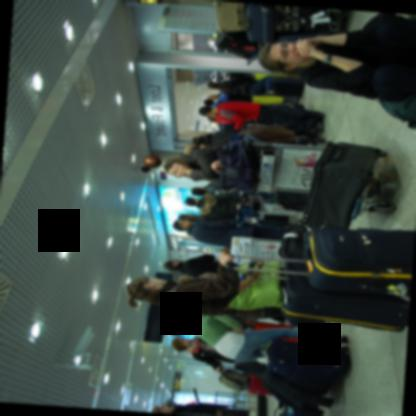backpack: (378, 94, 416, 129), (279, 310, 332, 330), (219, 367, 250, 391)
handbag: (223, 260, 283, 311), (199, 124, 297, 148), (218, 367, 252, 391), (273, 402, 310, 416)
suitcase: (282, 251, 403, 332), (299, 224, 410, 300), (297, 139, 388, 229), (243, 2, 345, 41), (261, 367, 340, 416), (267, 341, 353, 386), (216, 30, 261, 60), (214, 1, 246, 32), (270, 76, 305, 93), (246, 373, 273, 395)
